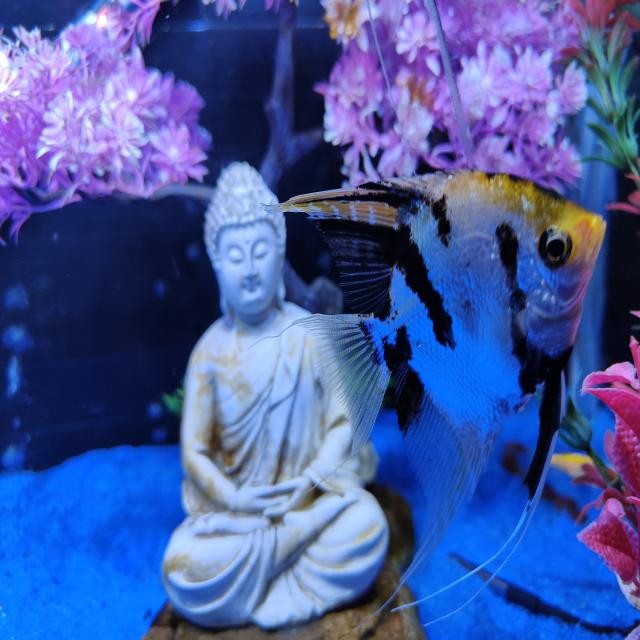Fish: (266, 170, 605, 581)
